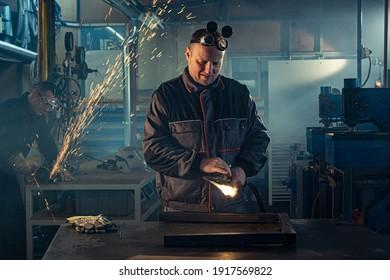gloves: (67, 213, 118, 236), (9, 153, 36, 175), (55, 166, 75, 181)
